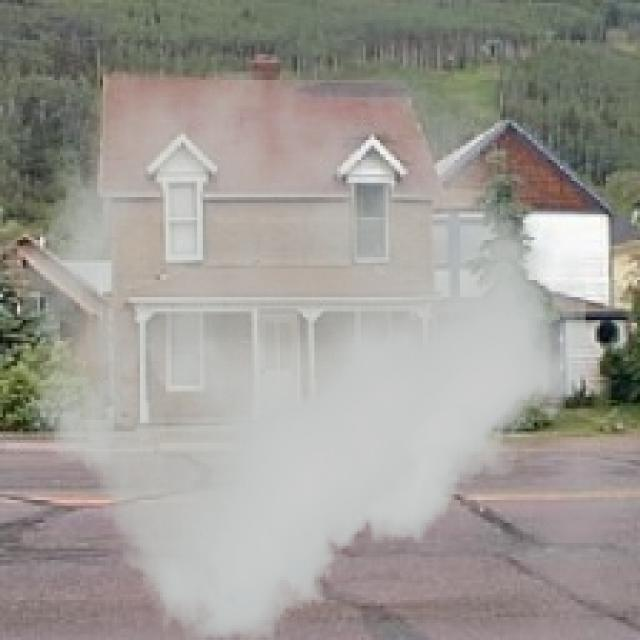smoke: (20, 72, 589, 637)
